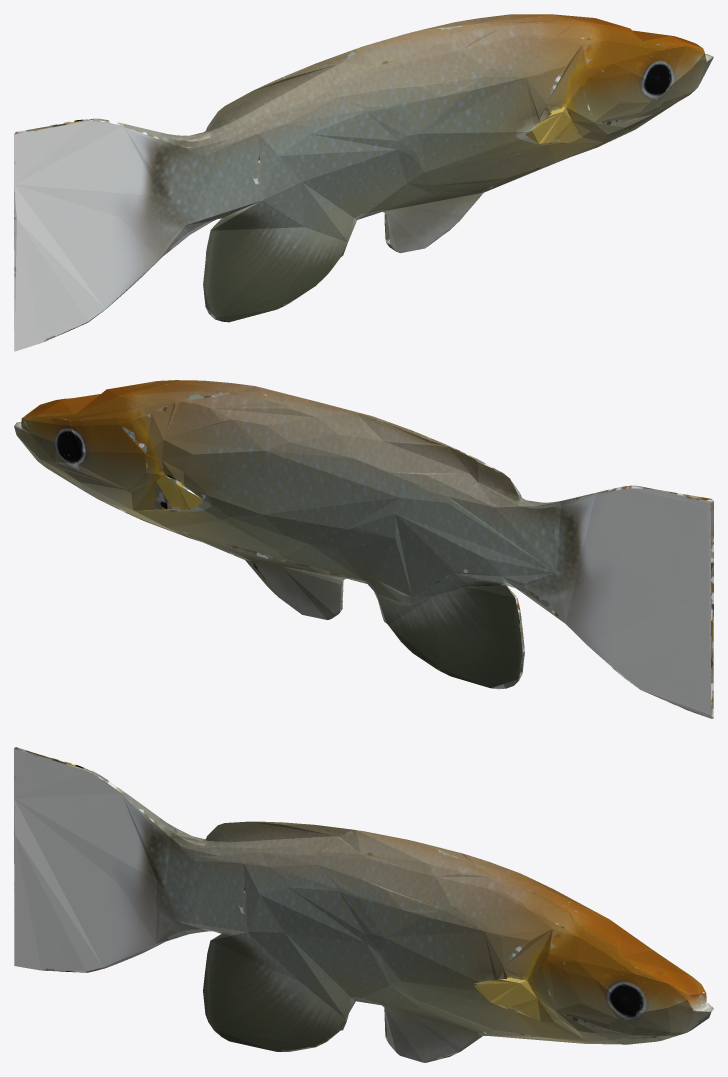
Rendered from fish_0083_smpl23_resized.glb.
3 views of the same model, one above another, from view 1: azimuth 30°, elevation 25°; view 2: azimuth 150°, elevation 25°; view 3: azimuth 330°, elevation 25° (orthographic).
Visible parts, largest first — view 1: world; view 2: world; view 3: world.
Boxes of the visible parts, x1,y1,x2,y2 form: world: (14,14,713,351); world: (14,380,713,718); world: (14,747,713,1062).
Size of the model in its own units: 1.99 by 0.6666 by 0.2601.
1 material, 1 textured.
